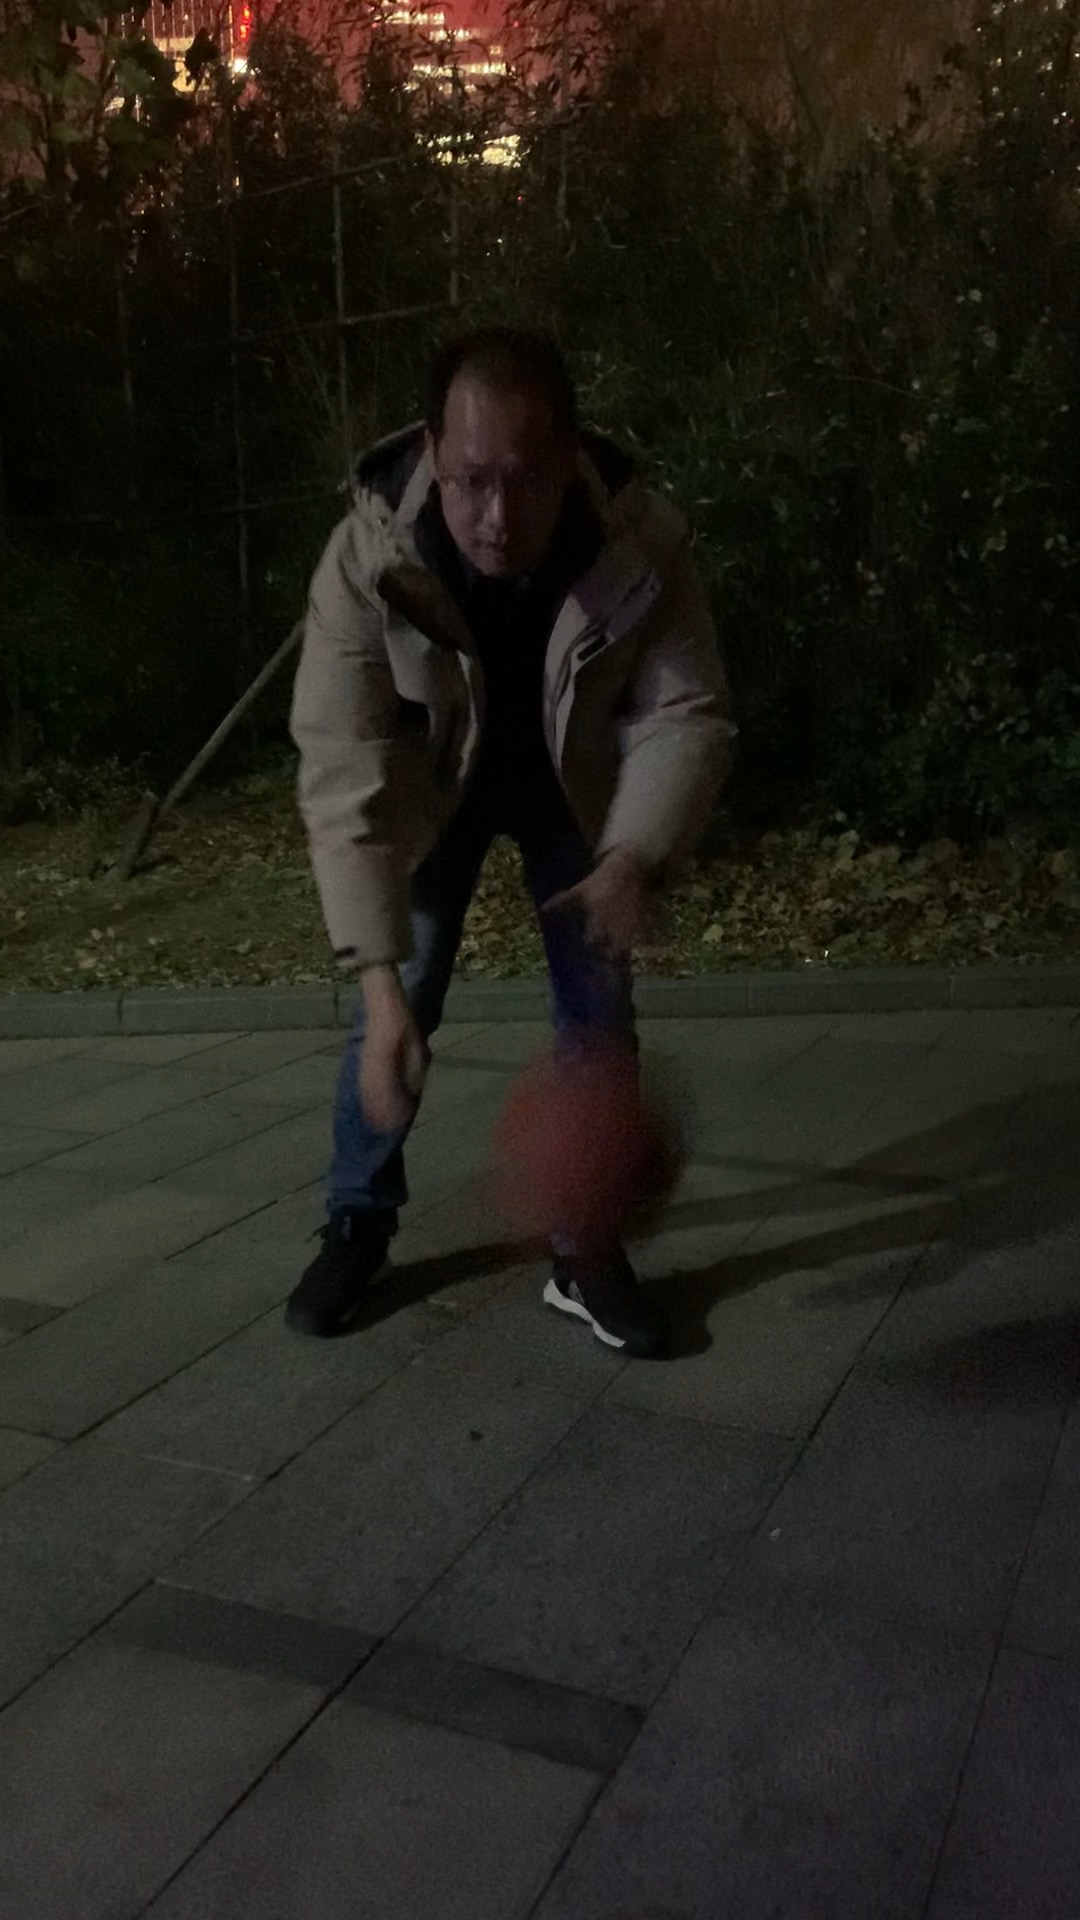ball: (487, 1048, 695, 1245)
